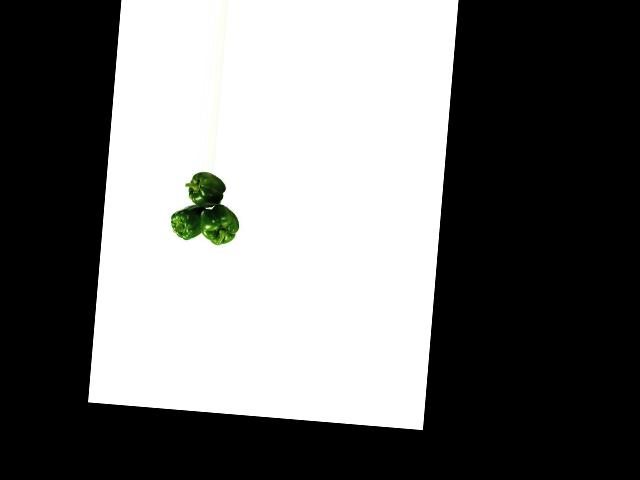bell_pepper: (196, 203, 244, 250)
